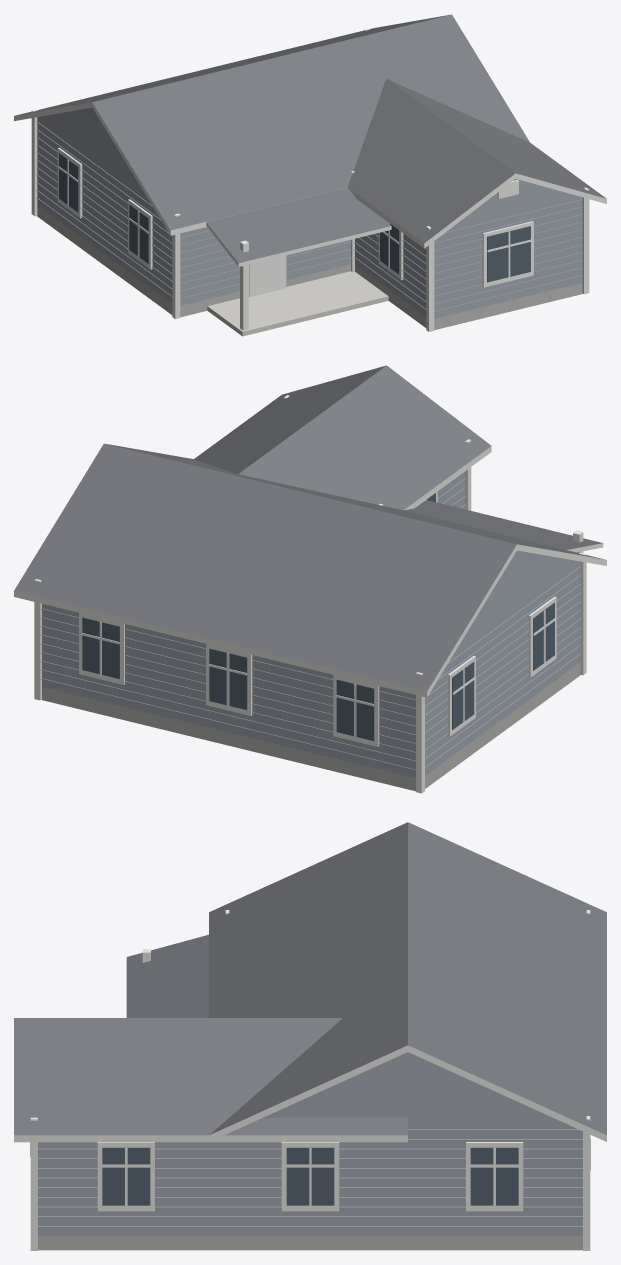
File: olive-cottage.glb
3 renders of one model, top to bottom at view 1: azimuth 30°, elevation 25°; view 2: azimuth 150°, elevation 25°; view 3: azimuth 270°, elevation 25°, orthographic. The views are drawn at different scales.
Parts seen in each view (by area): view 1: The Olive (cottage); view 2: The Olive (cottage); view 3: The Olive (cottage).
Part boxes in pixels (<box>): The Olive (cottage): <box>14,14,606,336</box>; The Olive (cottage): <box>14,365,606,793</box>; The Olive (cottage): <box>14,822,606,1250</box>.
Size of the model in its own units: 9.9 by 4.42 by 11.12.
